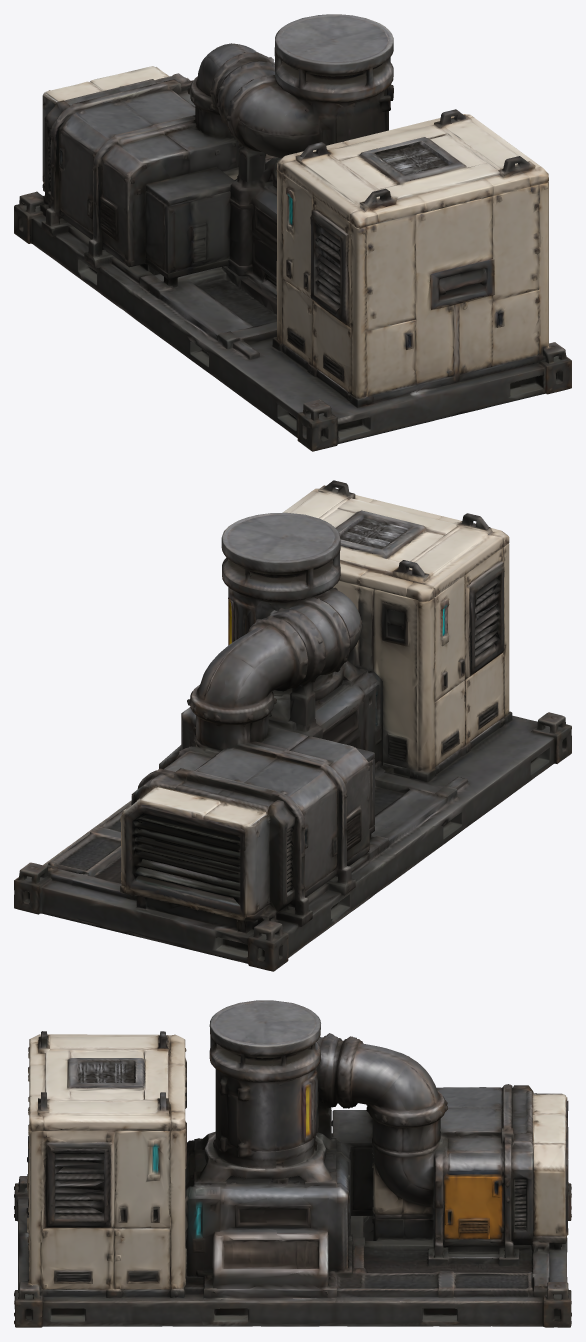
Rendered from kairox-rooftop-equipment.glb.
3 renders of one model, top to bottom at view 1: azimuth 30°, elevation 25°; view 2: azimuth 150°, elevation 25°; view 3: azimuth 270°, elevation 25°, orthographic. The views are drawn at different scales.
Parts seen in each view (by area): view 1: kairox-rooftop-equipment; view 2: kairox-rooftop-equipment; view 3: kairox-rooftop-equipment.
Boxes of the visible parts, x1,y1,x2,y2 form: kairox-rooftop-equipment: (14,14,571,451); kairox-rooftop-equipment: (14,480,571,971); kairox-rooftop-equipment: (14,1000,571,1327).
Bounding box in the file's own units: 2.47 × 2.5 × 4.89.
1 material, 1 textured.
